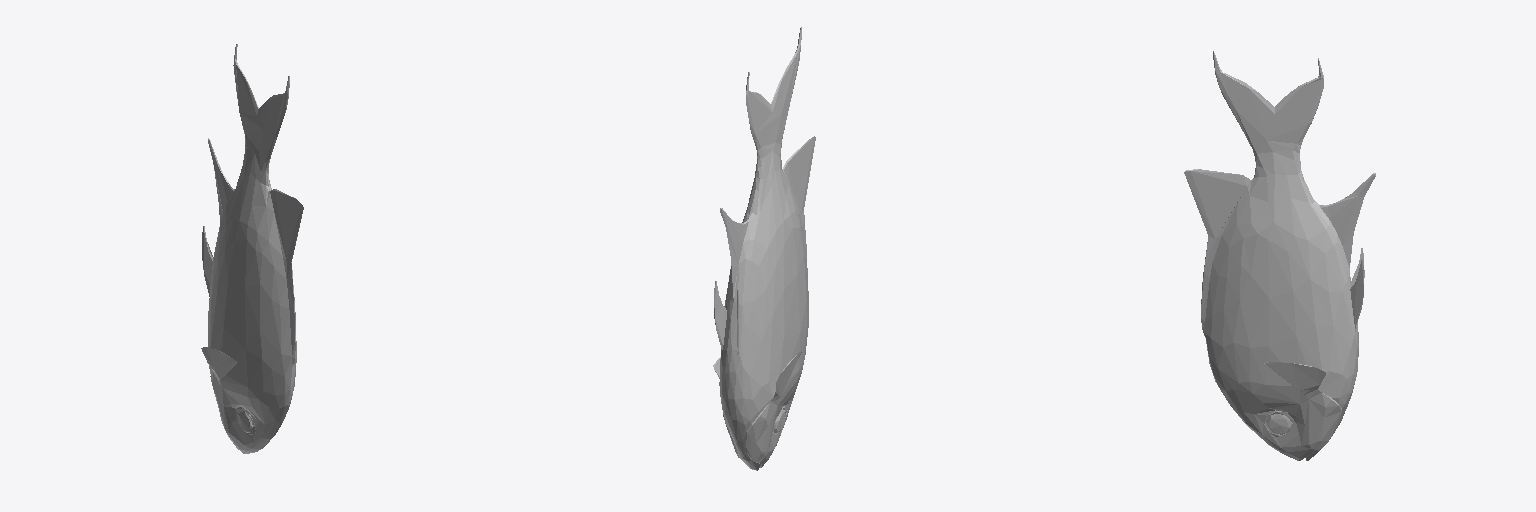
Rendered from fish.obj.
3 renders of one model, left to right at view 1: azimuth 30°, elevation 25°; view 2: azimuth 150°, elevation 25°; view 3: azimuth 270°, elevation 25°, orthographic.
Bounding box in the file's own units: 1.25 × 7.69 × 3.26.